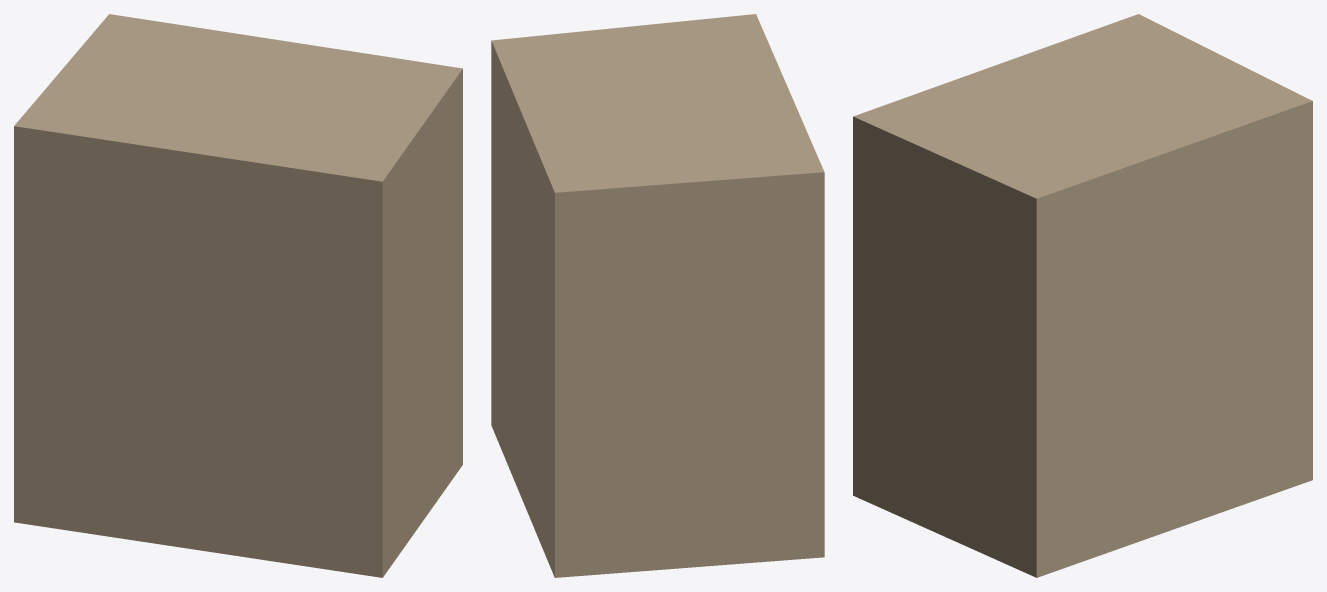
The model's file is bld_99588999.dae.
The picture shows the model from 3 angles, left to right: view 1: azimuth 30°, elevation 25°; view 2: azimuth 150°, elevation 25°; view 3: azimuth 270°, elevation 25°; orthographic projection. The views are drawn at different scales.
Parts seen in each view (by area): view 1: bld_99588999; view 2: bld_99588999; view 3: bld_99588999.
Part boxes in pixels (bbox=[...]): bld_99588999: bbox=[14, 14, 462, 577]; bld_99588999: bbox=[491, 14, 824, 577]; bld_99588999: bbox=[853, 14, 1312, 577].
Bounding box in the file's own units: 8.36 × 8.79 × 8.
